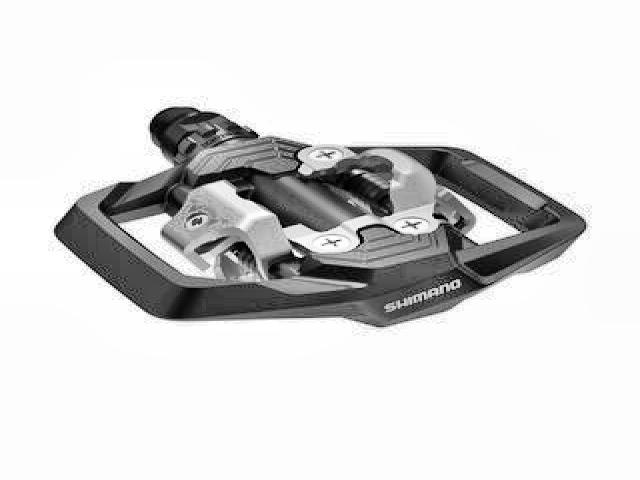pedal: (47, 102, 593, 332)
